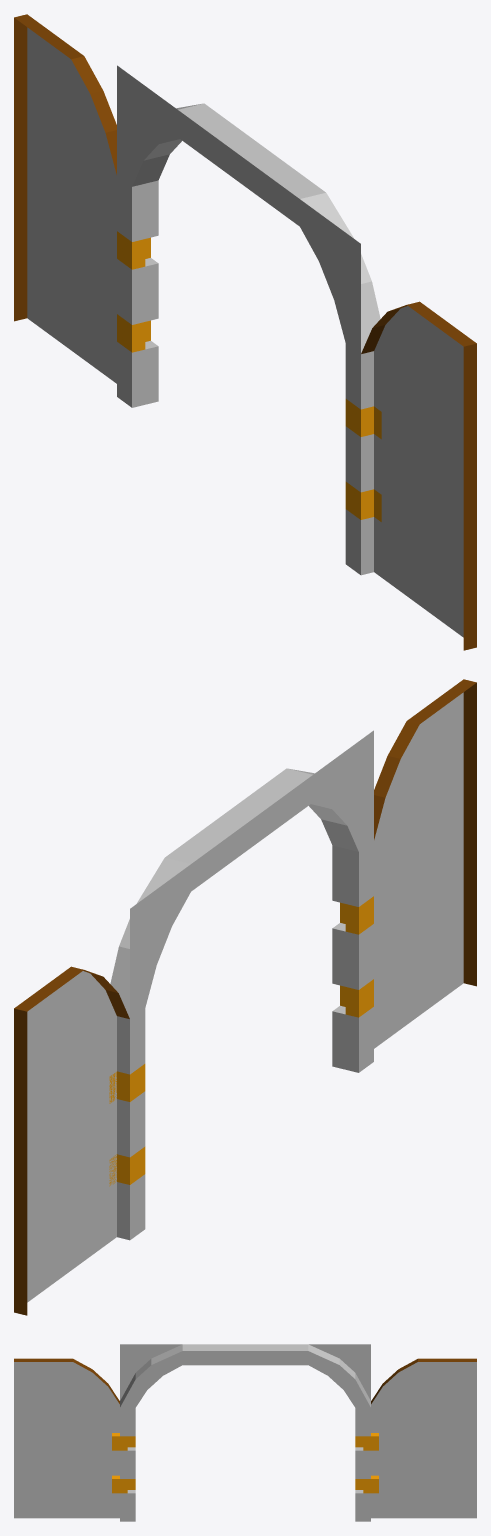
Rendered from doubledoorsopen.obj.
The picture shows the model from 3 angles, top to bottom: view 1: azimuth 30°, elevation 25°; view 2: azimuth 150°, elevation 25°; view 3: azimuth 270°, elevation 25°; orthographic projection. The views are drawn at different scales.
Visible parts, largest first — view 1: doubledoorsopen_back; view 2: doubledoorsopen_back; view 3: doubledoorsopen_back.
Part boxes in pixels (x1,y1,x2,y2): doubledoorsopen_back: (14, 14, 476, 650); doubledoorsopen_back: (14, 679, 476, 1315); doubledoorsopen_back: (14, 1344, 476, 1521).
Size of the model in its own units: 0.16 by 1.92 by 4.72.
